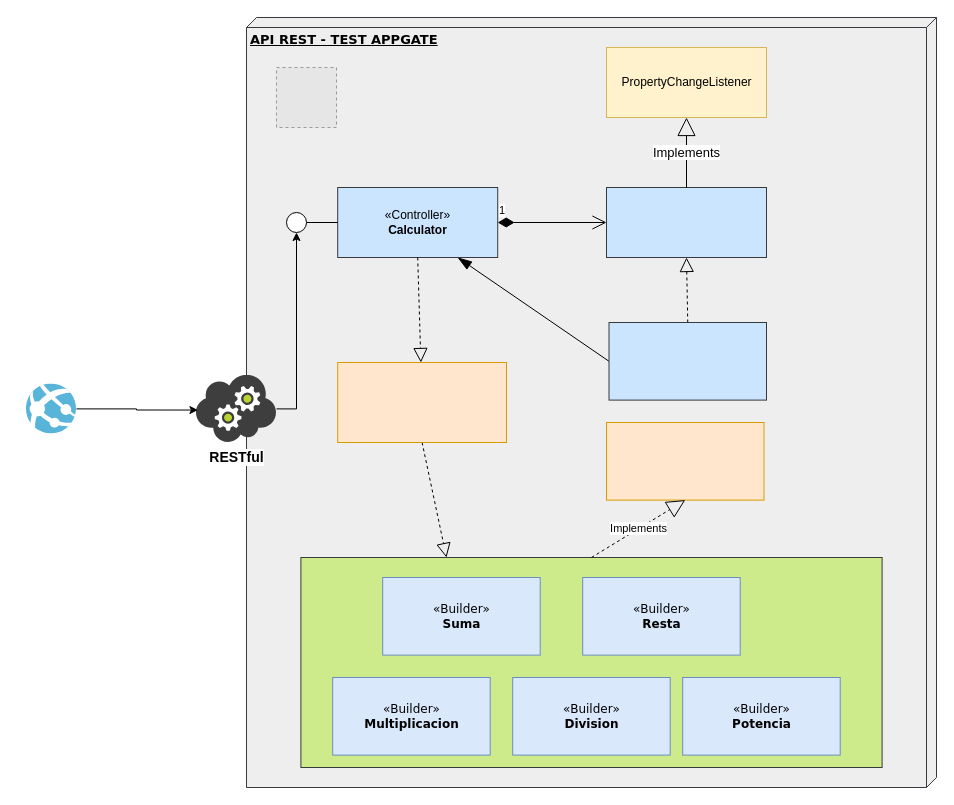
Image size: 954x805. Some labels were removed from this diagram. Grey dashed boxes stand in for pictures. The centre of each missing label's shape, as x and y in pixels:
"Client app" goes at point (51, 408).
"«Class» OperationBuilderFactory" goes at point (421, 402).
"«IBuilder» IOperationBuilder" goes at point (685, 461).
"«Object» Session" goes at point (687, 361).
"«Observer» SessionOberver" goes at point (686, 222).
